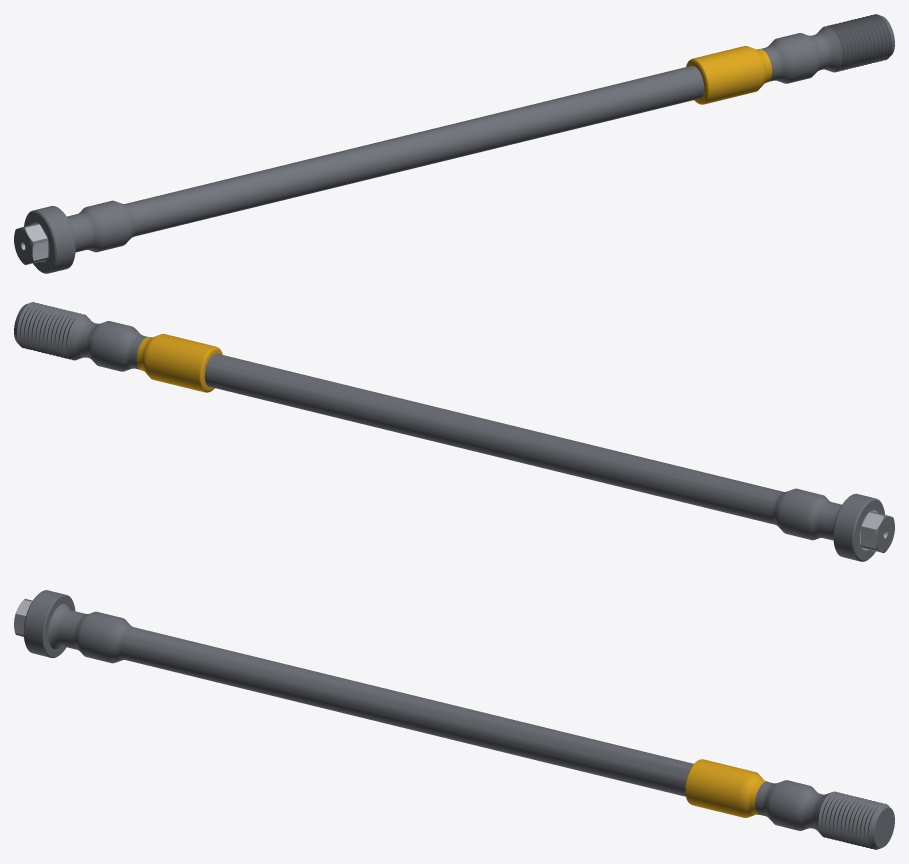
Rendered from saplama-mtb-275-ii-lastikli-01.glb.
3 views of the same model, one above another, from view 1: azimuth 30°, elevation 25°; view 2: azimuth 150°, elevation 25°; view 3: azimuth 330°, elevation 25° (orthographic).
Parts seen in each view (by area): view 1: body (×2); view 2: body (×2); view 3: body (×2).
Boxes of the visible parts, x1=… form: body (×2): x1=14, y1=14, x2=894, y2=273; body (×2): x1=14, y1=302, x2=894, y2=561; body (×2): x1=14, y1=590, x2=894, y2=849.
Bounding box in the file's own units: 1.34 × 0.0878 × 0.0878.
